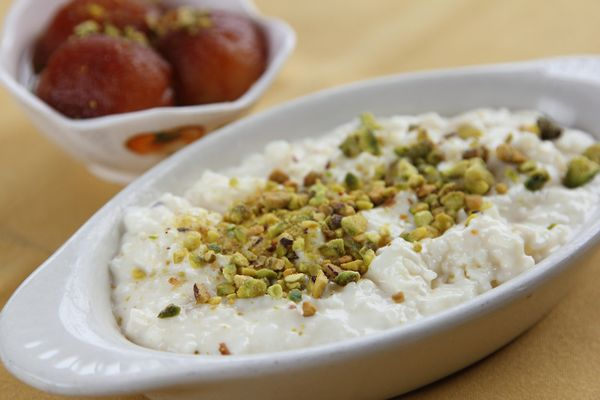sushi: (78, 72, 599, 388), (0, 0, 298, 184)
